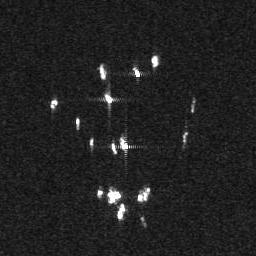ship: (98, 62, 108, 82), (116, 204, 127, 221), (104, 92, 115, 105), (132, 65, 142, 79), (120, 136, 128, 153), (151, 54, 160, 69), (74, 117, 81, 130), (111, 142, 118, 154), (88, 137, 95, 147)
